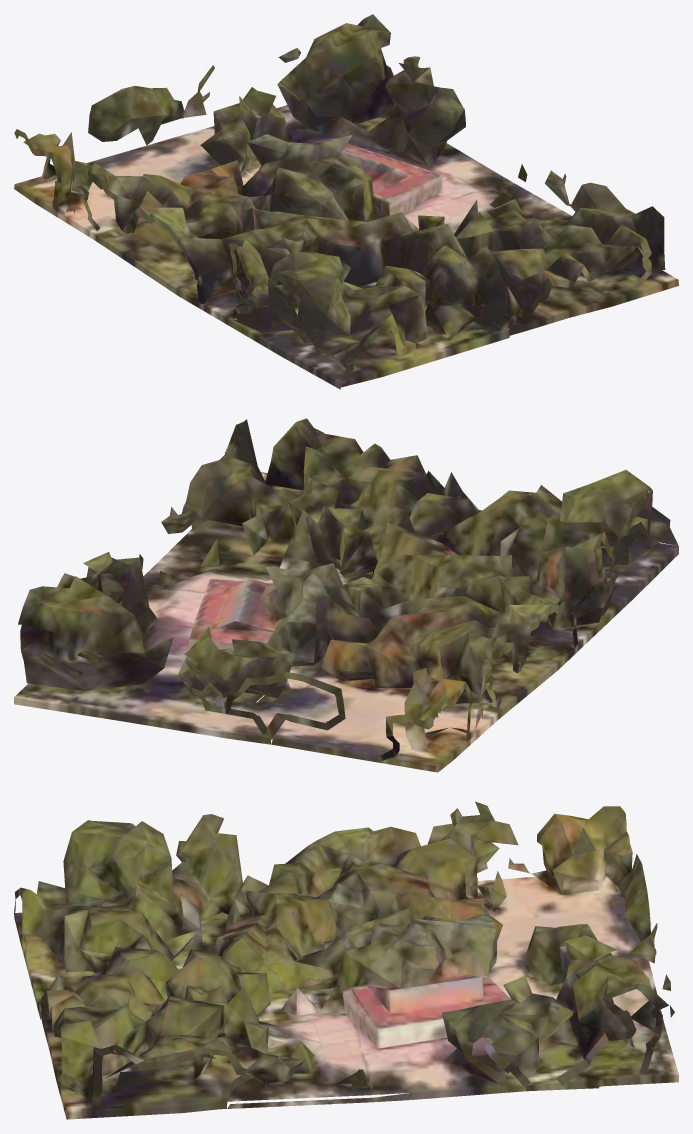
3 renders of one model, top to bottom at view 1: azimuth 30°, elevation 25°; view 2: azimuth 150°, elevation 25°; view 3: azimuth 270°, elevation 25°, orthographic. The views are drawn at different scales.
Parts seen in each view (by area): view 1: Mesh_0; view 2: Mesh_0; view 3: Mesh_0.
Boxes of the visible parts, <box> form: Mesh_0: <box>14,14,678,389</box>; Mesh_0: <box>14,418,678,772</box>; Mesh_0: <box>14,801,678,1119</box>.
Bounding box in the file's own units: 133 × 30.61 × 165.
Materials: 1 (1 with a texture image).
